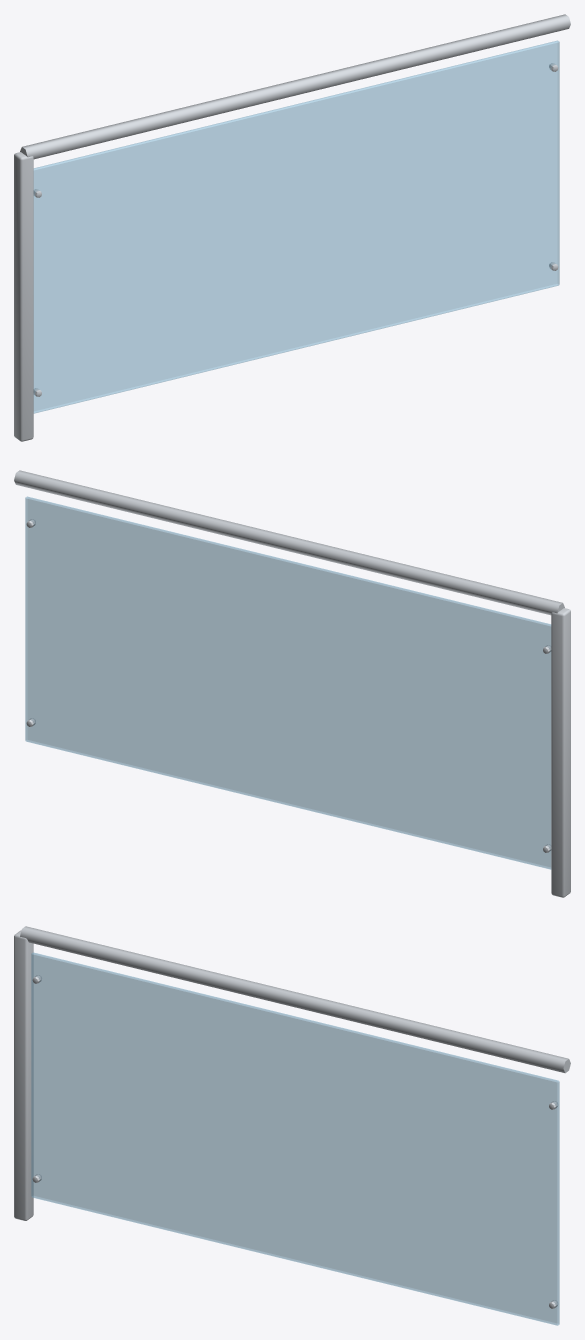
The model's file is guarda_corpo_vidro_2m.glb.
3 views of the same model, one above another, from view 1: azimuth 30°, elevation 25°; view 2: azimuth 150°, elevation 25°; view 3: azimuth 330°, elevation 25° (orthographic).
Parts seen in each view (by area): view 1: guarda_corpo_vidro_2m; view 2: guarda_corpo_vidro_2m; view 3: guarda_corpo_vidro_2m.
Part boxes in pixels (x1,y1,x2,y2): guarda_corpo_vidro_2m: [14, 14, 570, 441]; guarda_corpo_vidro_2m: [14, 470, 570, 897]; guarda_corpo_vidro_2m: [14, 926, 570, 1325].
Bounding box in the file's own units: 2.03 × 1.02 × 0.05.
2 materials, 1 textured.
